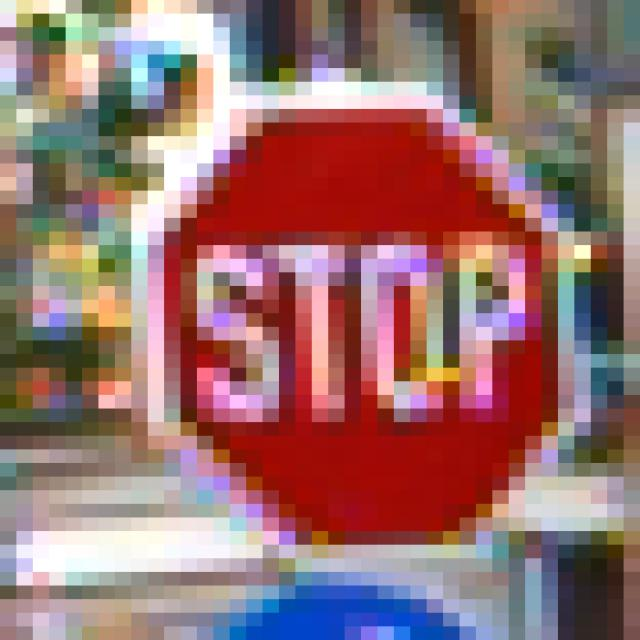STOP: (99, 69, 559, 573)
